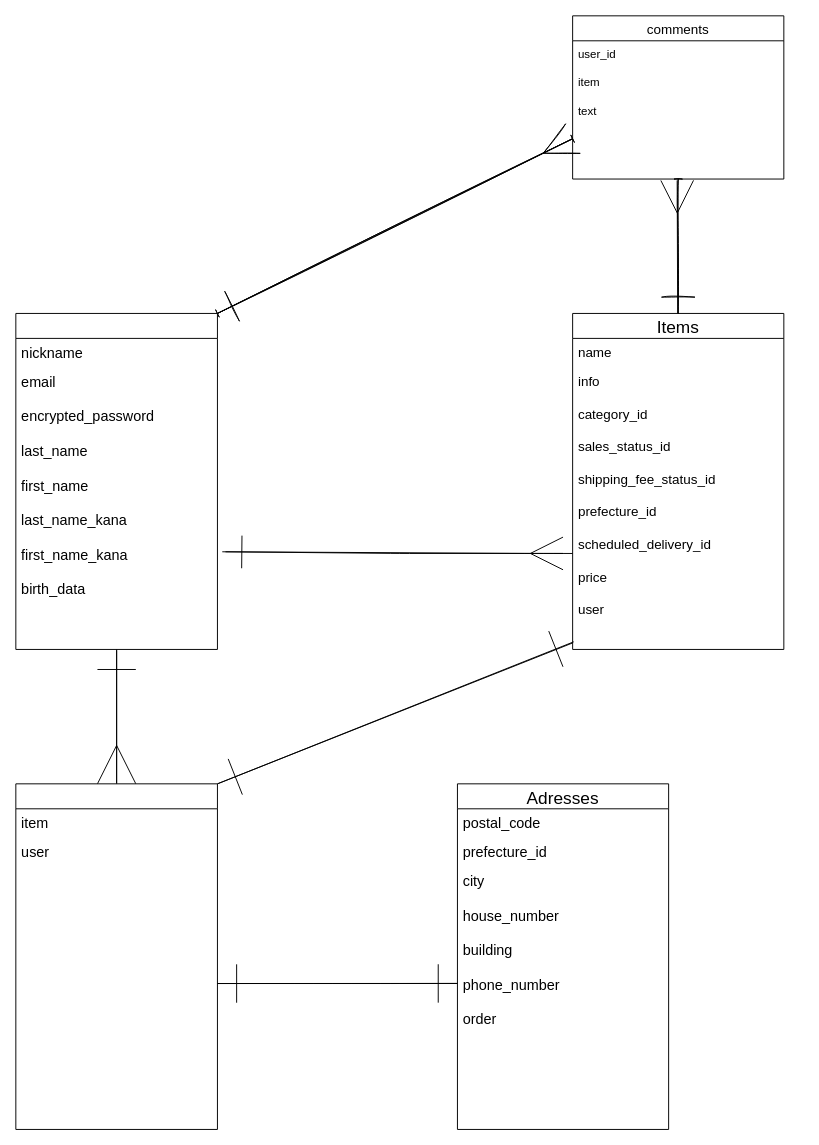
Image size: 819x1145. Some labels were removed from this diagram. The shapes that lost their labels are listed below. From the top down, each one's box as (x1, y1, x2, y2) in pixels, then its label:
(15, 312, 217, 649): Users
(15, 783, 217, 1129): Orders
